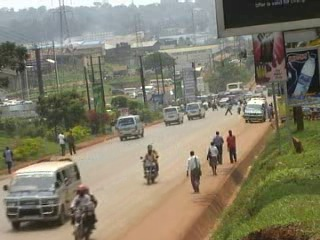Car: (216, 96, 231, 107)
Motorcycle: (66, 184, 100, 238), (139, 144, 162, 184), (200, 97, 214, 115)
